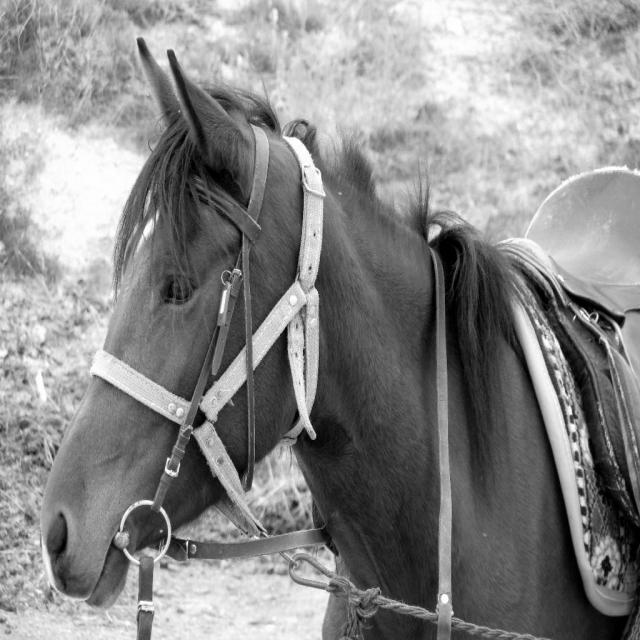Horse: (30, 37, 640, 640)
